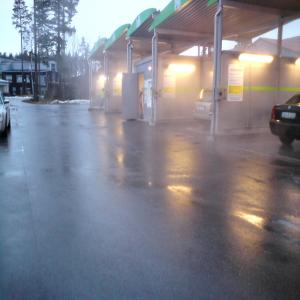Vehicle-registration-plate: (282, 112, 297, 120)
